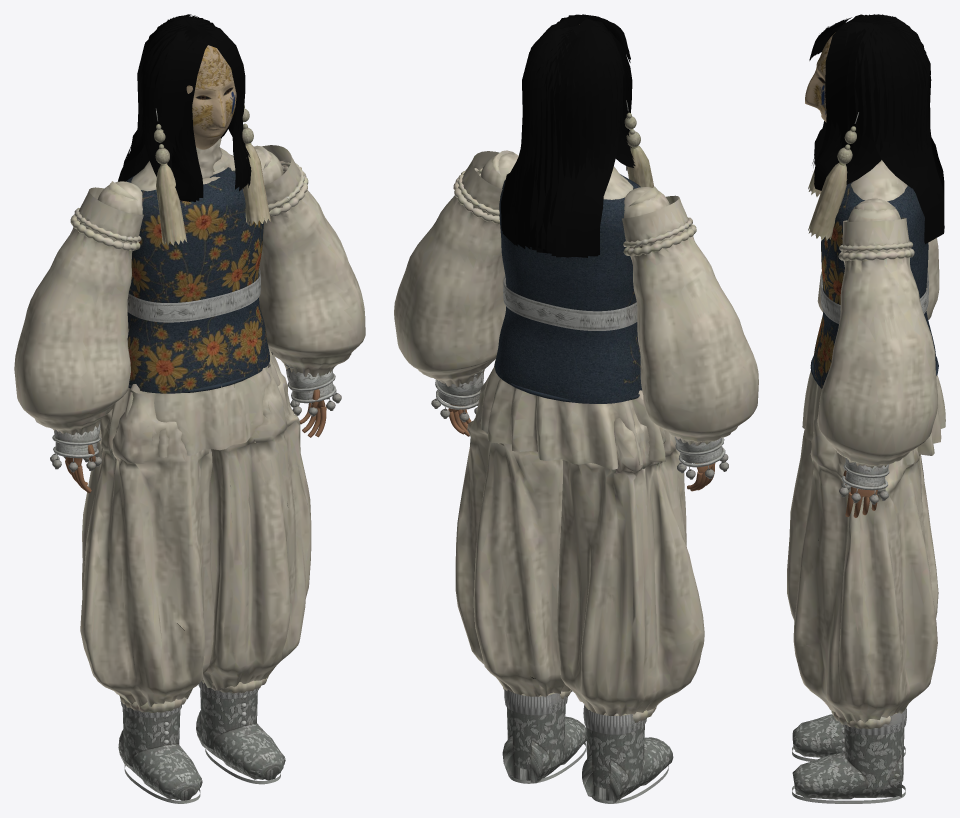
File: arnavaz.glb
3 renders of one model, left to right at view 1: azimuth 30°, elevation 25°; view 2: azimuth 150°, elevation 25°; view 3: azimuth 270°, elevation 25°, orthographic. The views are drawn at different scales.
Visible parts, largest first — view 1: Rig_LegR, Rig_Body, Rig_LegL, Rig_ArmR, Rig_ArmL, Rig_Head, Rig_Face; view 2: Rig_LegR, Rig_Body, Rig_LegL, Rig_Head, Rig_ArmR, Rig_ArmL; view 3: Rig_LegL, Rig_ArmL, Rig_Head, Rig_Body, Rig_LegR, Rig_Face, Rig_ArmR.
Boxes of the visible parts, x1,y1,x2,y2 form: Rig_LegR: [80, 390, 214, 803]; Rig_Body: [50, 138, 341, 744]; Rig_LegL: [196, 352, 311, 784]; Rig_ArmR: [14, 181, 143, 493]; Rig_ArmL: [254, 145, 365, 437]; Rig_Head: [118, 14, 270, 245]; Rig_Face: [154, 24, 253, 164]; Rig_LegR: [557, 407, 704, 803]; Rig_Body: [431, 146, 728, 479]; Rig_LegL: [455, 359, 586, 783]; Rig_Head: [501, 14, 654, 257]; Rig_ArmR: [622, 186, 758, 491]; Rig_ArmL: [394, 150, 518, 436]; Rig_LegL: [792, 416, 937, 803]; Rig_ArmL: [817, 198, 937, 517]; Rig_Head: [808, 14, 944, 244]; Rig_Body: [802, 160, 945, 752]; Rig_LegR: [787, 429, 938, 761]; Rig_Face: [805, 22, 872, 163]; Rig_ArmR: [817, 238, 939, 319].
Size of the model in its own units: 0.8803 by 1.83 by 0.349.
Materials: 6 (6 with a texture image).
